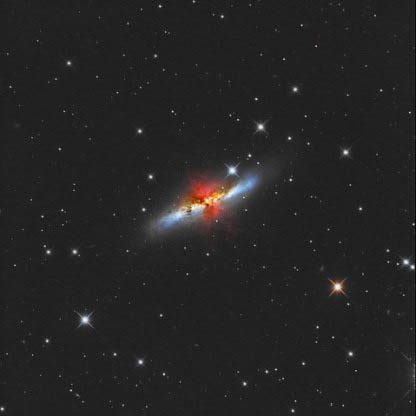Messier 82: (126, 133, 303, 263)
